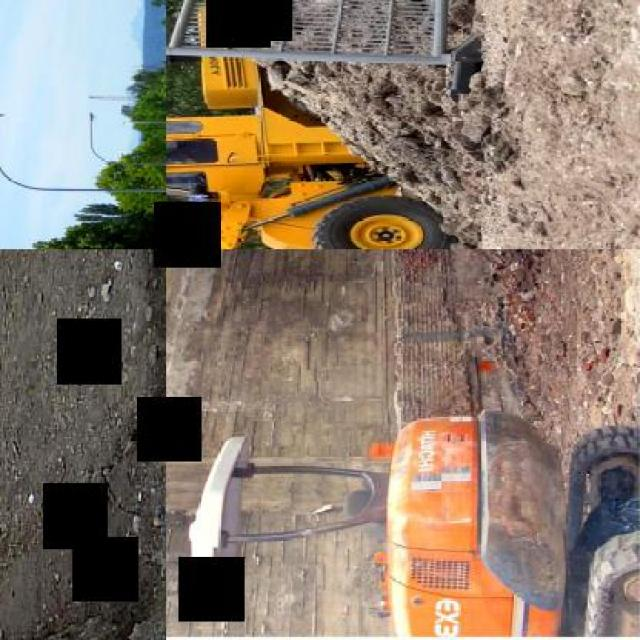buldozerpayloadergrader: (166, 0, 460, 248)
excavator: (190, 412, 638, 638)
